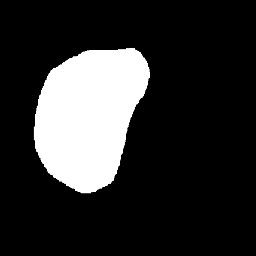mass: (39, 52, 146, 185)
